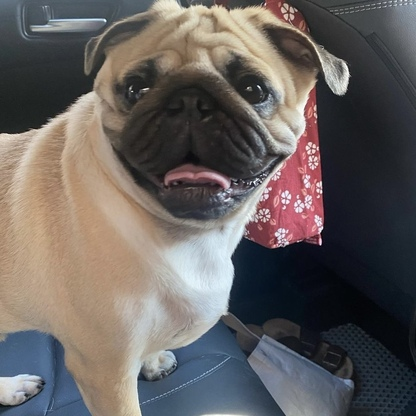Pug: (1, 1, 355, 416)
